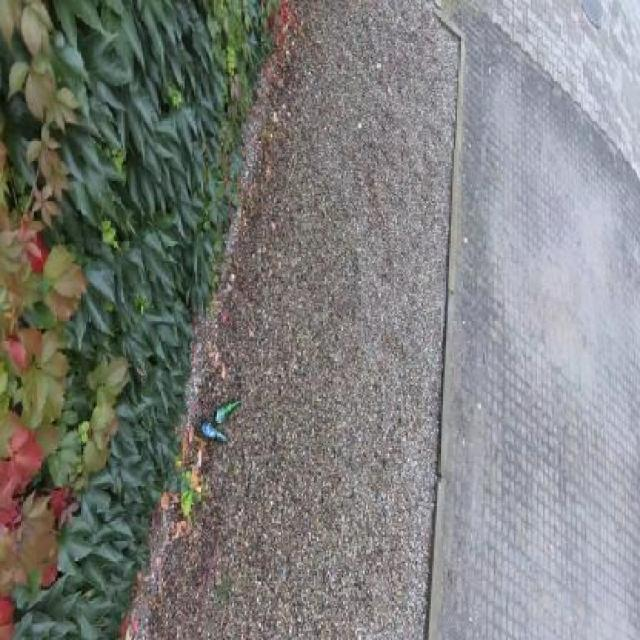Garbage: (212, 397, 243, 427), (199, 419, 229, 444)
